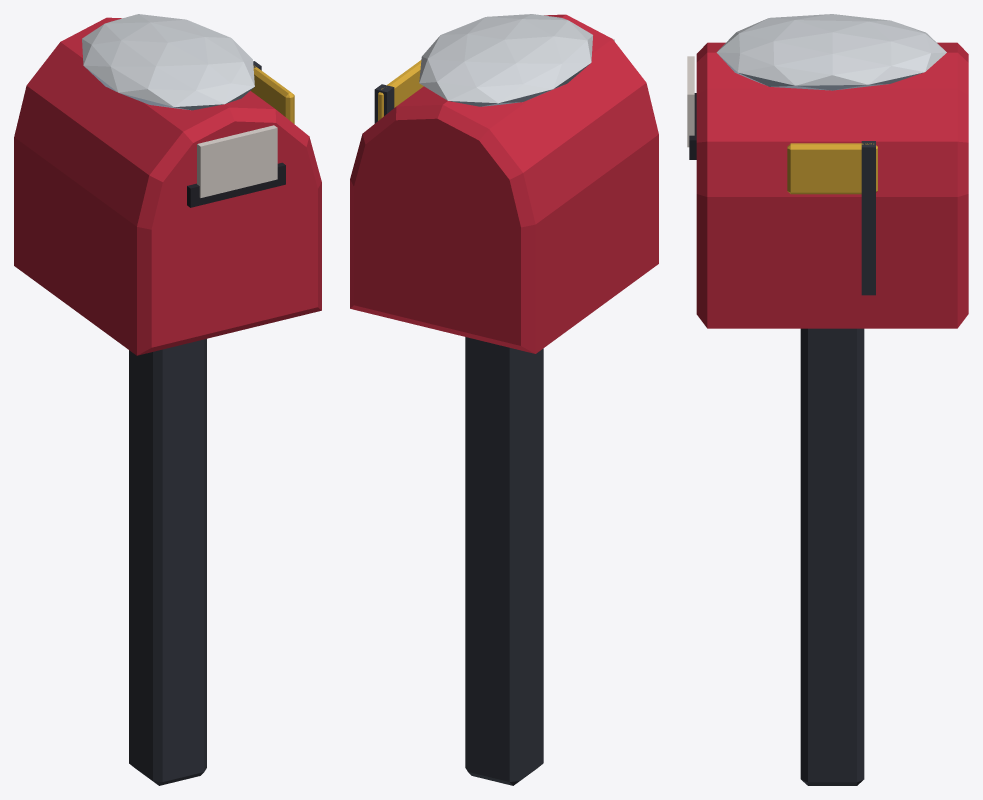
File: Mailbox_Santa.glb
3 renders of one model, left to right at view 1: azimuth 30°, elevation 25°; view 2: azimuth 150°, elevation 25°; view 3: azimuth 270°, elevation 25°, orthographic.
Visible parts, largest first — view 1: Mailbox_Santa; view 2: Mailbox_Santa; view 3: Mailbox_Santa.
Part boxes in pixels (x1,y1,x2,y2): Mailbox_Santa: (14,14,321,785); Mailbox_Santa: (350,14,658,785); Mailbox_Santa: (687,14,968,785).
Size of the model in its own units: 1.3 by 4.52 by 1.55.
